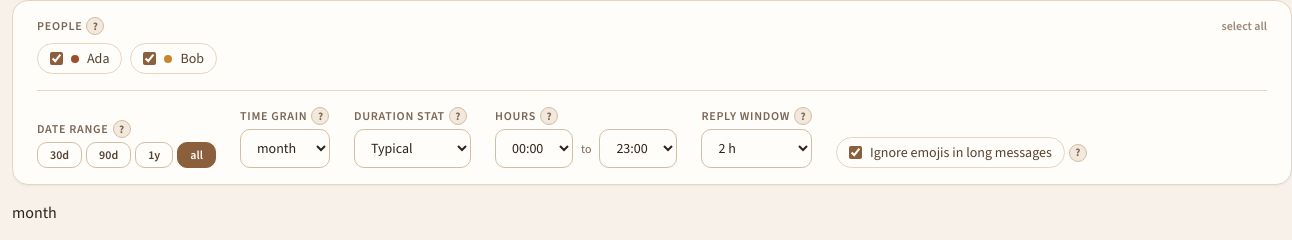
Test case: FilterBar › updates grain in context consumers
The image size is (1292, 240).
Check: the text with test id "grain" reads "month", box [12,202,57,223]
Select "week" in the dropdown named "time grain": [285, 148] box [240,129,330,168]
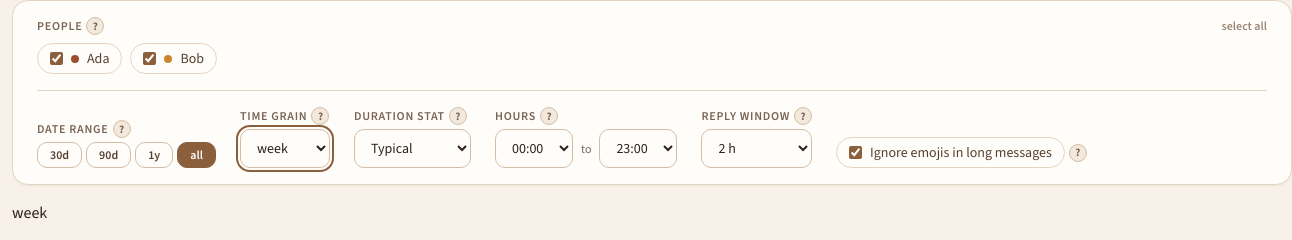
Check: the text with test id "grain" reads "week", box [12,202,47,223]
